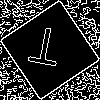T: (25, 25, 64, 76)
